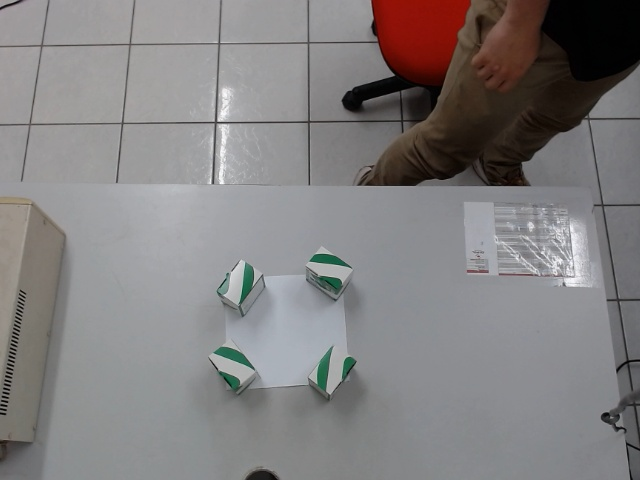divisor: (224, 270, 352, 392)
item: (208, 338, 260, 396), (216, 259, 267, 318), (303, 245, 354, 302), (307, 343, 357, 400)
